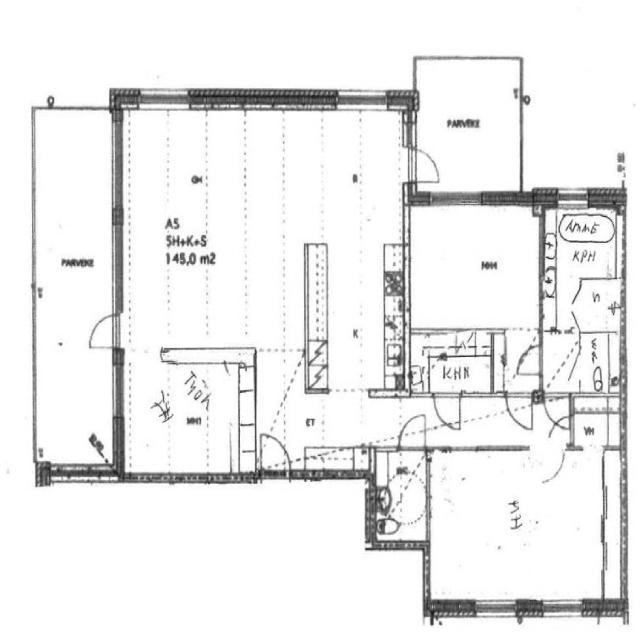door: (84, 310, 123, 353), (258, 432, 291, 478), (409, 145, 444, 187), (396, 410, 428, 454), (505, 390, 535, 432), (432, 390, 462, 430), (535, 448, 567, 485), (542, 391, 572, 428), (514, 344, 544, 378), (548, 414, 574, 446)
window: (103, 114, 127, 214), (105, 214, 126, 319), (334, 87, 391, 112), (136, 87, 193, 111), (107, 356, 127, 423), (426, 189, 482, 211), (473, 598, 519, 624), (539, 598, 586, 623), (556, 186, 590, 208)
zone: (119, 105, 410, 480), (33, 110, 123, 475), (427, 451, 622, 606), (405, 202, 543, 334), (412, 57, 524, 198), (540, 205, 623, 340), (408, 329, 508, 392), (374, 450, 429, 546), (542, 335, 620, 395), (571, 401, 621, 449), (514, 343, 544, 378)
